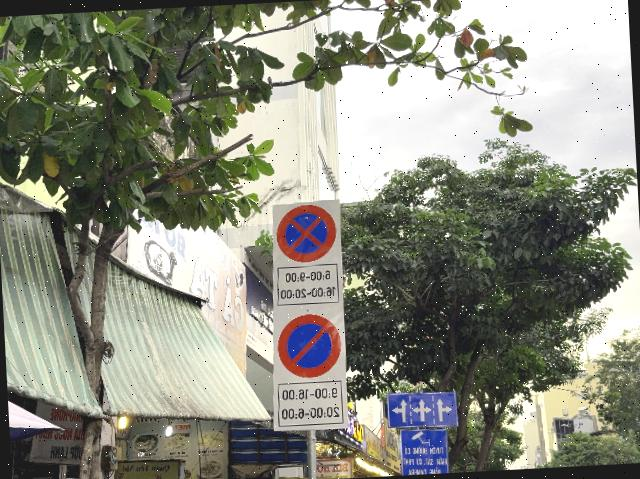cam-do-xe: (276, 312, 343, 380)
cam-dung-va-do-xe: (276, 202, 338, 264)
